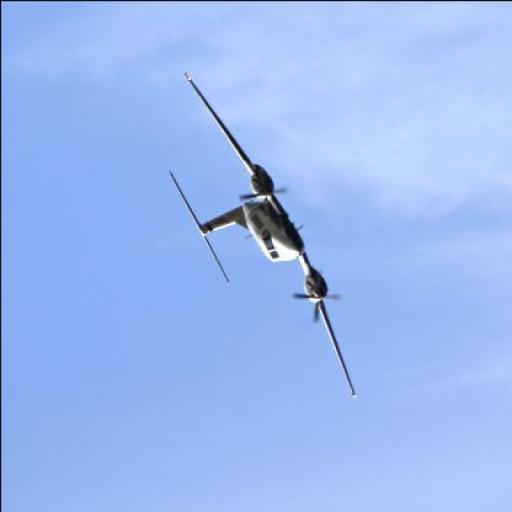aircraft: (167, 69, 359, 405)
